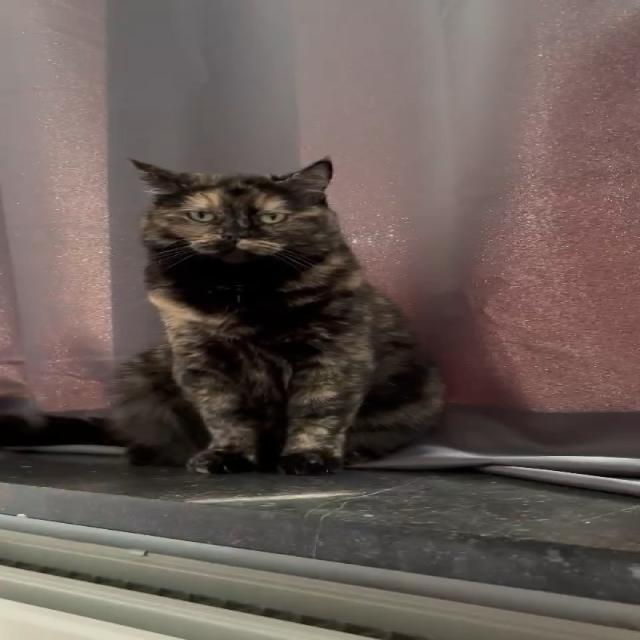authorized: (107, 154, 448, 476)
